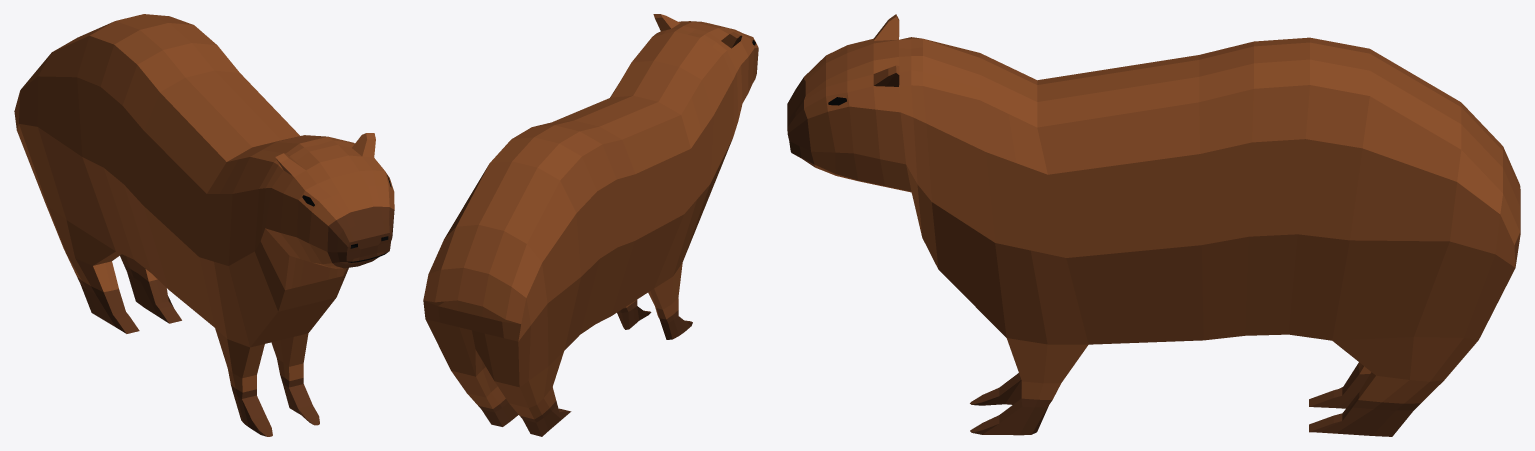
The model's file is capivara3.0_low_polly (1).fbx.
The picture shows the model from 3 angles, left to right: view 1: azimuth 30°, elevation 25°; view 2: azimuth 150°, elevation 25°; view 3: azimuth 270°, elevation 25°; orthographic projection. The views are drawn at different scales.
Visible parts, largest first — view 1: Plano; view 2: Plano; view 3: Plano.
Part boxes in pixels (bbox=[...]): Plano: bbox=[14, 14, 394, 436]; Plano: bbox=[423, 14, 758, 436]; Plano: bbox=[787, 14, 1520, 436].
Size of the model in its own units: 202 by 512 by 898.
